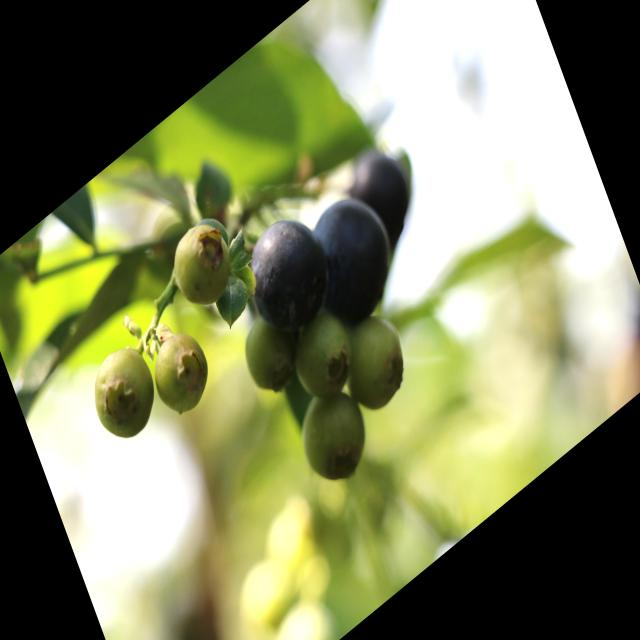blueberry: (235, 197, 338, 353), (303, 181, 401, 333), (344, 133, 420, 252)
blueberry-unripe: (290, 369, 376, 499), (82, 333, 166, 462), (336, 298, 417, 423), (142, 309, 220, 429), (284, 300, 363, 412), (164, 208, 240, 321), (234, 298, 301, 404)
